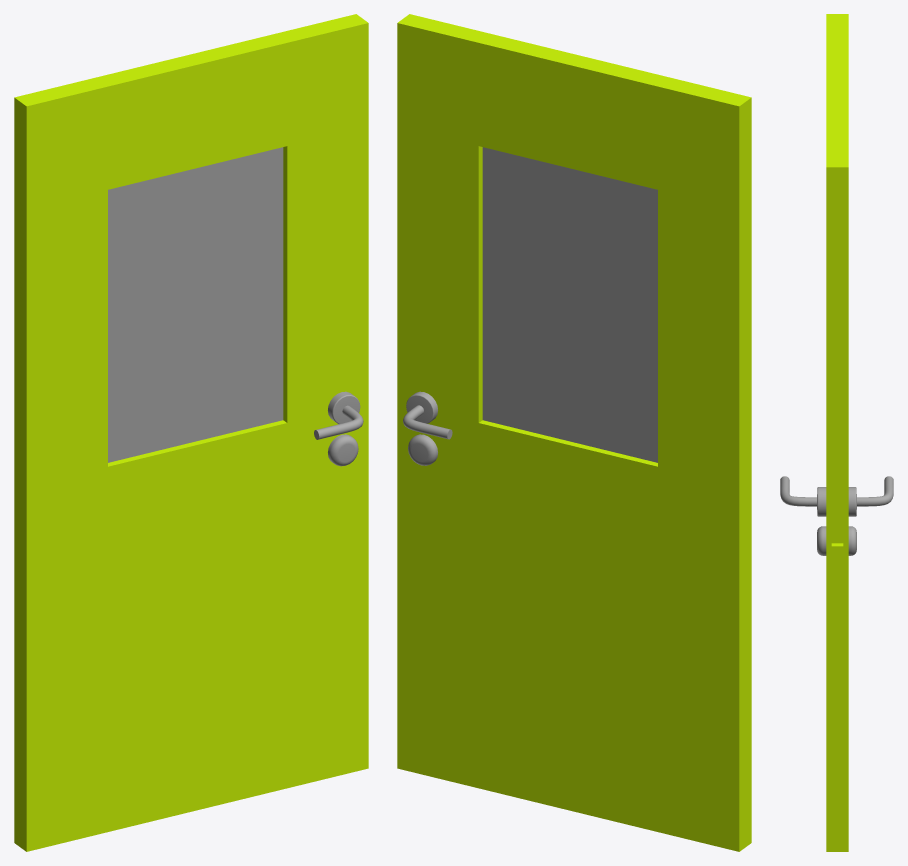
The model's file is Door_Group.fbx.
3 renders of one model, left to right at view 1: azimuth 30°, elevation 25°; view 2: azimuth 150°, elevation 25°; view 3: azimuth 270°, elevation 25°, orthographic. The views are drawn at different scales.
Visible parts, largest first — view 1: Door_Main, Door_Glass, Door_Handle, Door_Lock; view 2: Door_Main, Door_Glass, Door_Handle, Door_Lock; view 3: Door_Main, Door_Handle, Door_Lock.
Part boxes in pixels (x1,y1,x2,y2): Door_Main: [14, 14, 368, 851]; Door_Glass: [108, 147, 283, 462]; Door_Handle: [314, 391, 363, 439]; Door_Lock: [328, 434, 358, 466]; Door_Main: [397, 14, 751, 851]; Door_Glass: [482, 147, 657, 462]; Door_Handle: [403, 391, 452, 439]; Door_Lock: [408, 434, 437, 465]; Door_Main: [826, 14, 848, 851]; Door_Handle: [780, 476, 893, 516]; Door_Lock: [817, 526, 856, 555].
Bounding box in the file's own units: 49.76 × 104 × 15.58.
